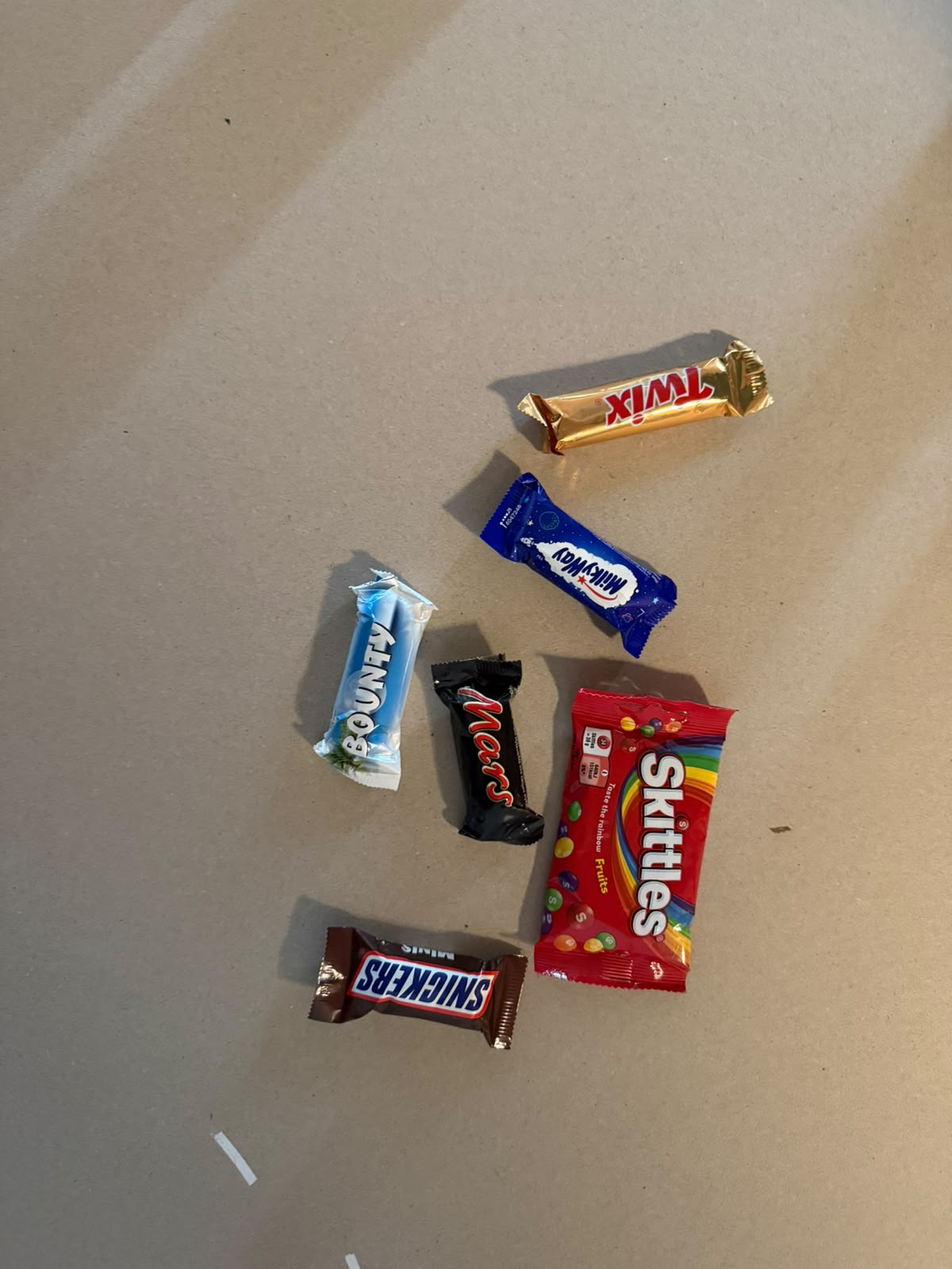Bounty: (359, 562, 447, 779)
Mars: (423, 659, 508, 871)
MilkyWay: (521, 461, 740, 555)
Skittles: (588, 665, 754, 988)
Snickers: (322, 899, 537, 1033)
Twix: (527, 406, 778, 475)
